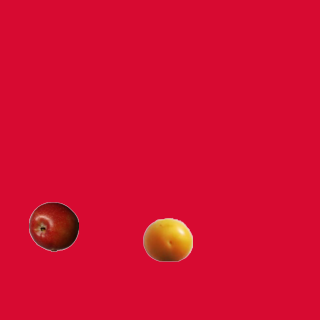Apple Braeburn: (28, 201, 78, 251)
Cherry Wax Yellow: (142, 214, 192, 264)
